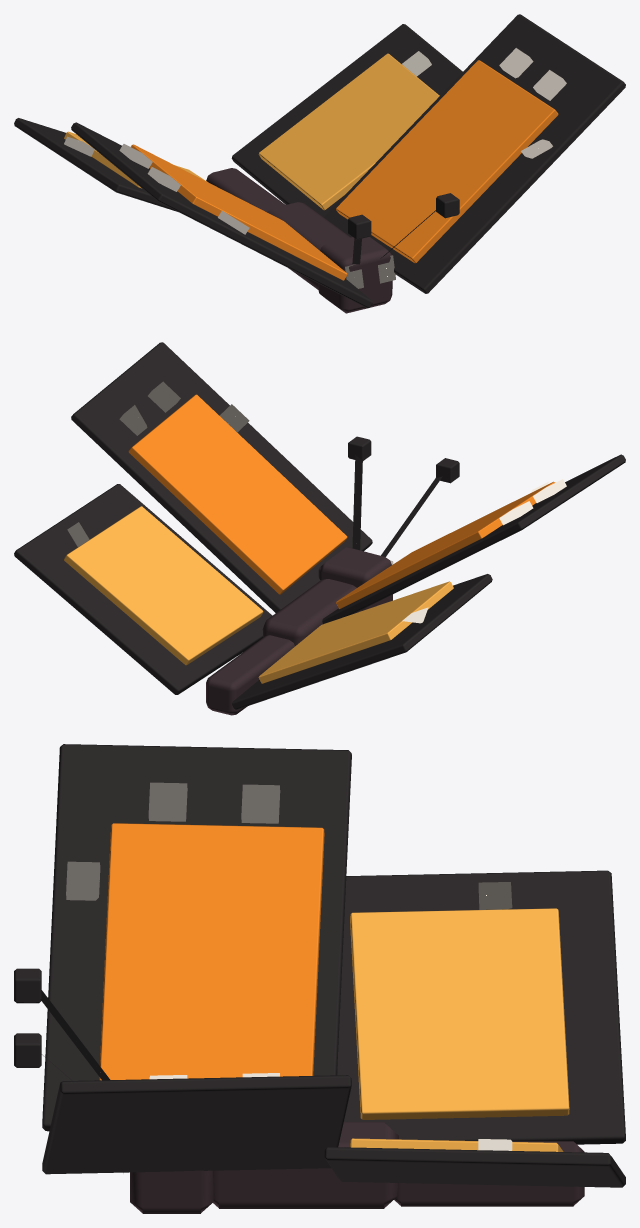
File: butterfly-poly-by-google_2ZwYwkTVnfG-blocky_lod1.glb
3 views of the same model, one above another, from view 1: azimuth 30°, elevation 25°; view 2: azimuth 150°, elevation 25°; view 3: azimuth 270°, elevation 25° (orthographic). The views are drawn at different scales.
Visible parts, largest first — view 1: butterfly; view 2: butterfly; view 3: butterfly.
Boxes of the visible parts, left/top/right/bottom form: butterfly: left=14, top=14, right=625, bottom=313; butterfly: left=14, top=342, right=625, bottom=715; butterfly: left=14, top=744, right=625, bottom=1213.
Size of the model in its own units: 1.36 by 0.5272 by 1.02.
Materials: 1 (1 with a texture image).
